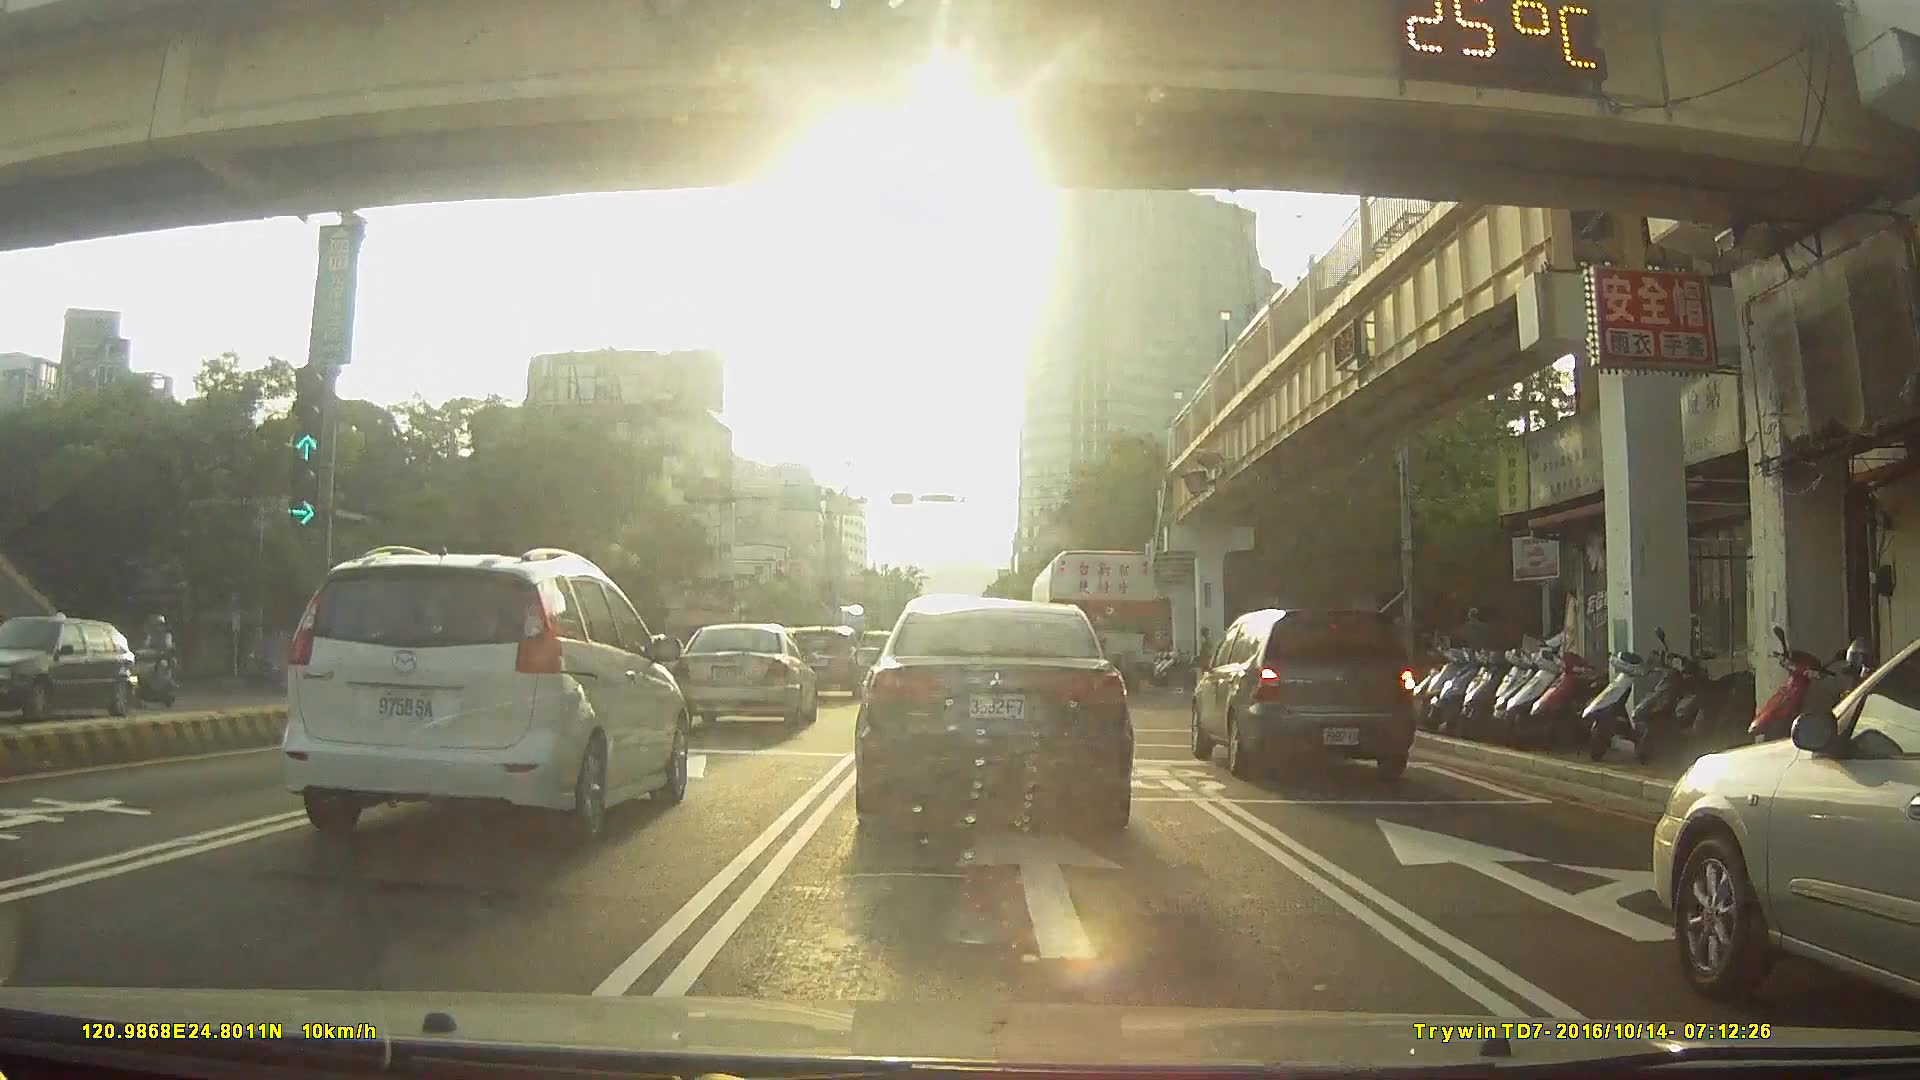pedestrian: (1205, 619, 1232, 682)
rider: (128, 611, 179, 708)
vehicle: (278, 540, 692, 846), (1646, 637, 1920, 1008), (851, 590, 1131, 839), (1193, 603, 1420, 778), (1, 615, 171, 725), (1028, 544, 1155, 689), (674, 617, 817, 726), (779, 623, 863, 697)
